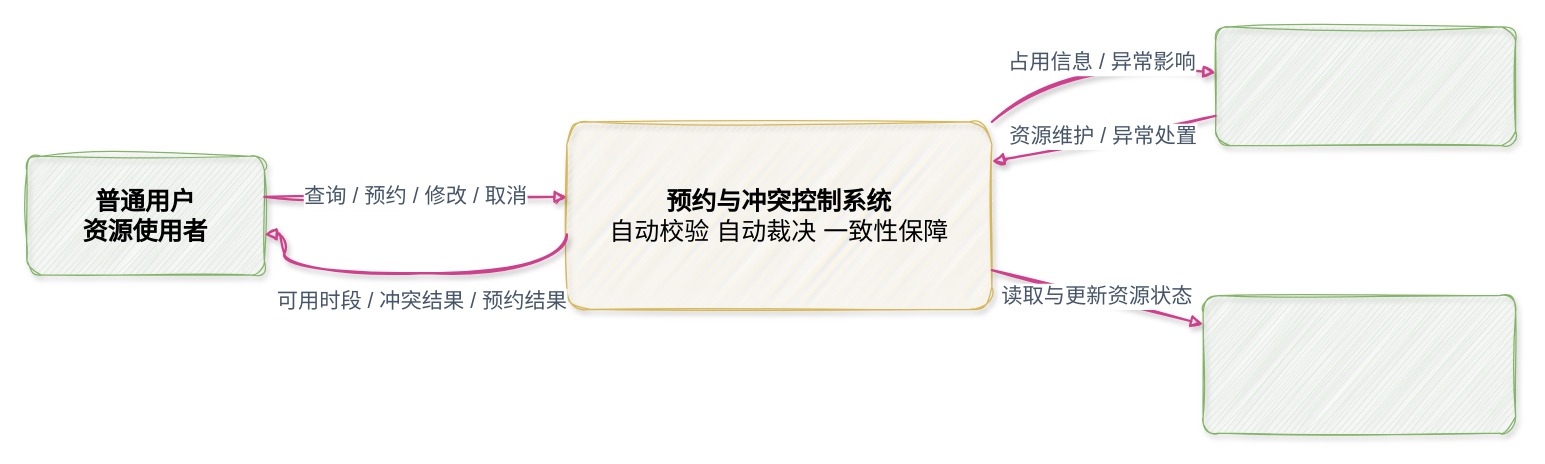
Some shapes in this 1545 by 464 pixel diagram are drawn without their labels. Here are the shapes that lost their labels. From the top down, the centre of each, then its label:
At (1366,87): "管理员 资源管理者 / 异常处置者".
At (1360,365): "会议室资源 容量 · 设备 · 状态 · 开放时间".
